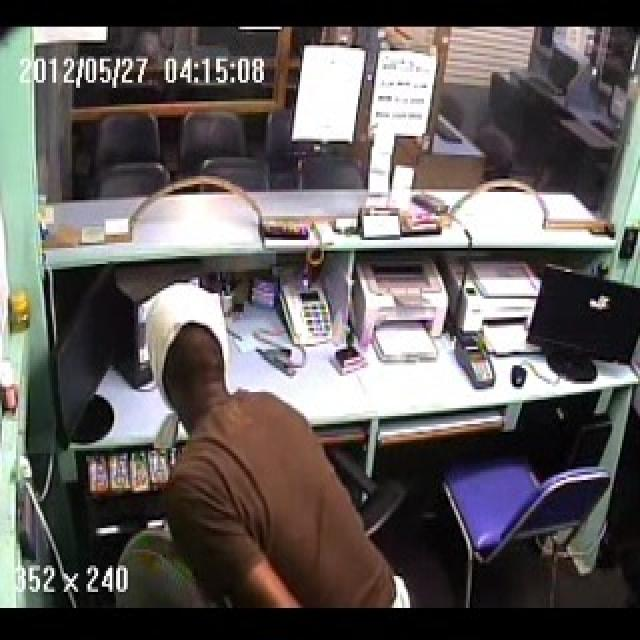thief: (110, 280, 427, 608)
